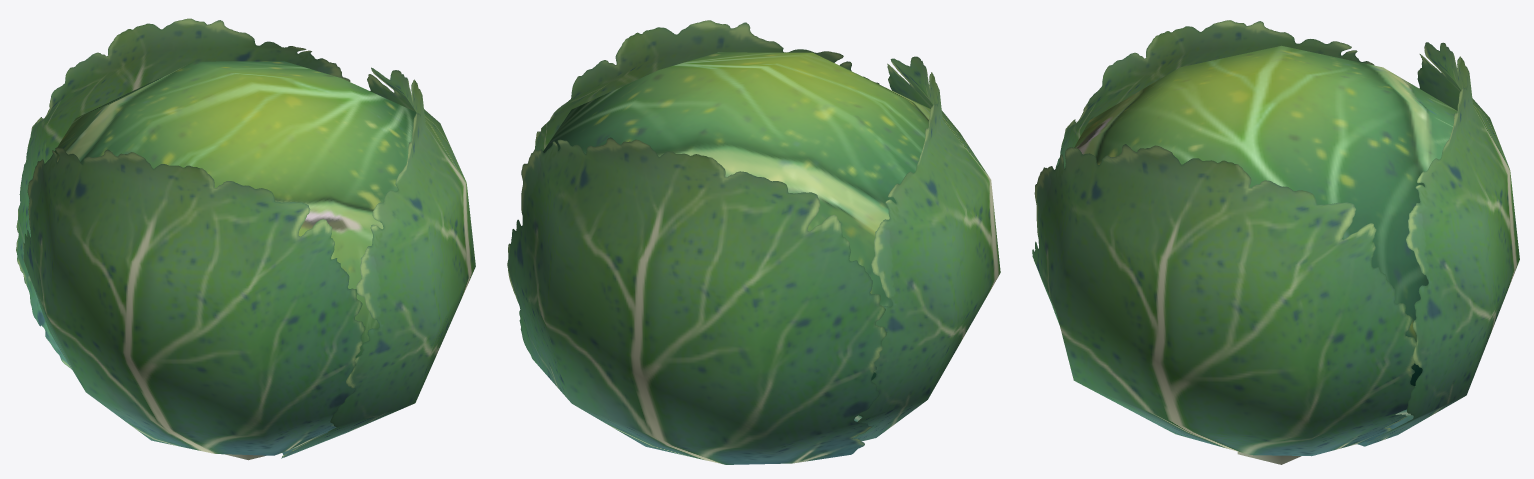
The model's file is plant_cabbage.fbx.
The picture shows the model from 3 angles, left to right: view 1: azimuth 30°, elevation 25°; view 2: azimuth 150°, elevation 25°; view 3: azimuth 270°, elevation 25°; orthographic projection. The views are drawn at different scales.
Visible parts, largest first — view 1: plant_cabbage; view 2: plant_cabbage; view 3: plant_cabbage.
Part boxes in pixels (x1=…): plant_cabbage: x1=16, y1=18, x2=475, y2=460; plant_cabbage: x1=507, y1=20, x2=1000, y2=464; plant_cabbage: x1=1032, y1=20, x2=1519, y2=464.
Bounding box in the file's own units: 28.22 × 24.44 × 29.03.
